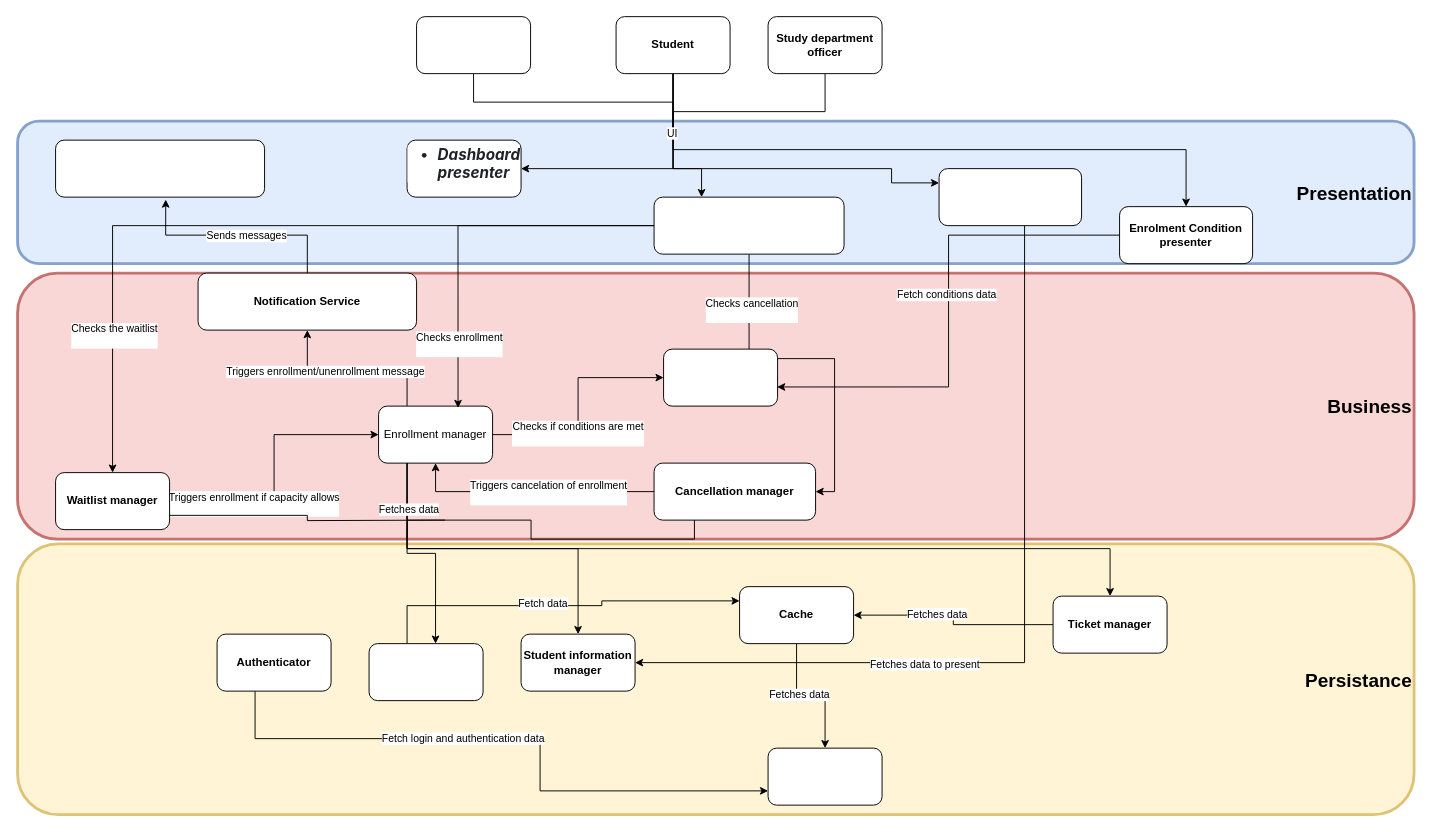
The diagram is 1432 pixels wide and 832 high, and some of its shapes have lost their labels. Each missing label, with the centre of its shape:
"Conditions manager" belongs at pixel 720 377.
"Course information manager" belongs at pixel 425 672.
"Courses enrolment presenter" belongs at pixel 748 225.
"Database" belongs at pixel 824 776.
"Sis messenger" belongs at pixel 160 168.
"Student information presenter" belongs at pixel 1010 197.
"Teacher" belongs at pixel 473 45.
